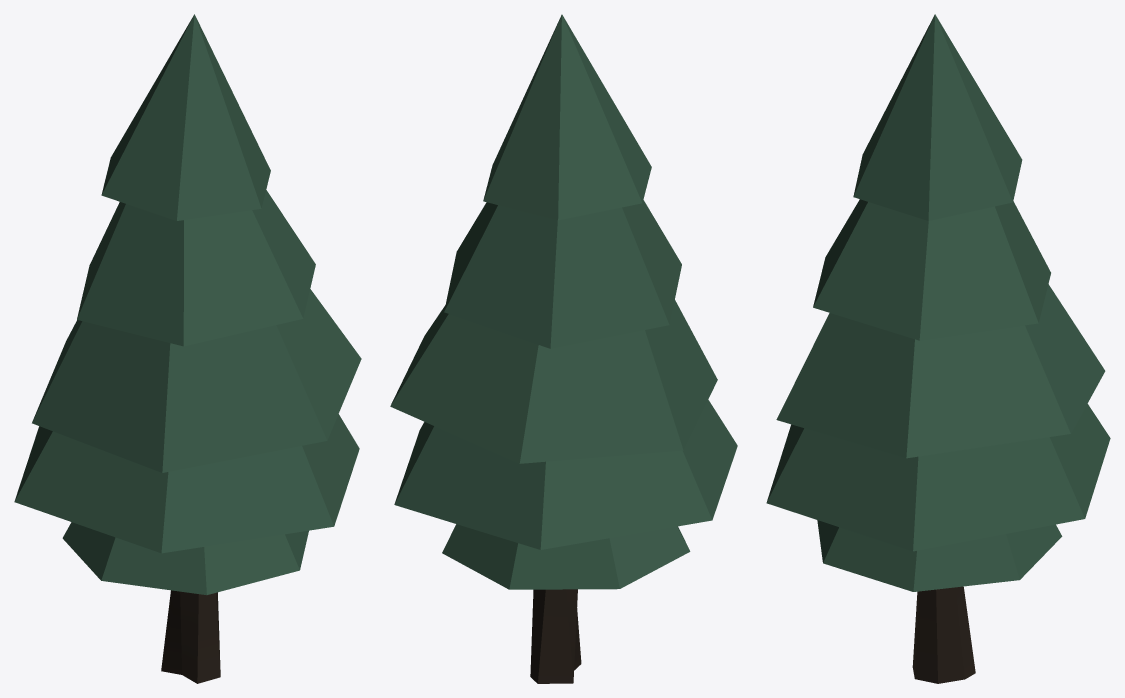
File: pine.fbx
The picture shows the model from 3 angles, left to right: view 1: azimuth 30°, elevation 25°; view 2: azimuth 150°, elevation 25°; view 3: azimuth 270°, elevation 25°; orthographic projection.
Visible parts, largest first — view 1: pine:pine:Pine_Tree6; view 2: pine:pine:Pine_Tree6; view 3: pine:pine:Pine_Tree6.
Part boxes in pixels (x1,y1,x2,y2): pine:pine:Pine_Tree6: (14,14,361,683); pine:pine:Pine_Tree6: (390,14,737,683); pine:pine:Pine_Tree6: (766,14,1110,683).
Bounding box in the file's own units: 4.09 × 8.07 × 3.83.
